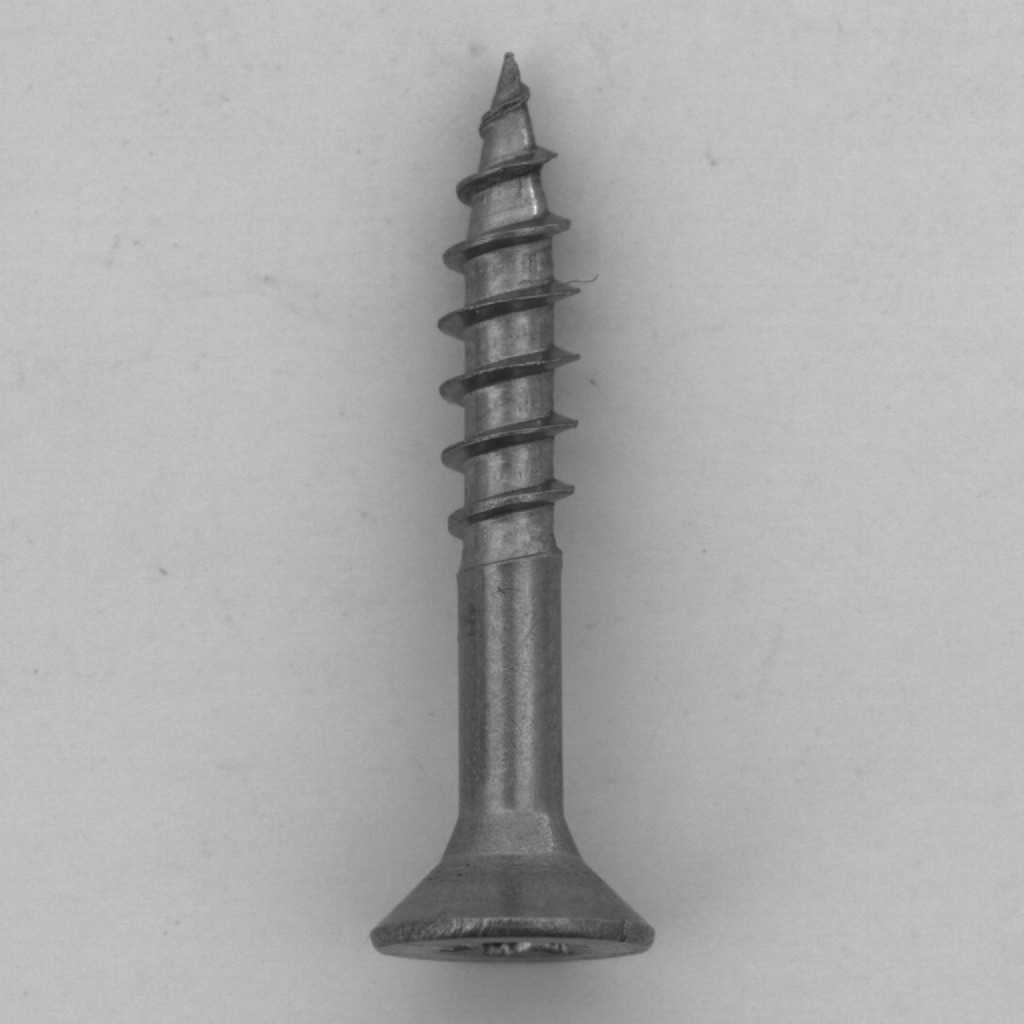good: (341, 39, 675, 979)
